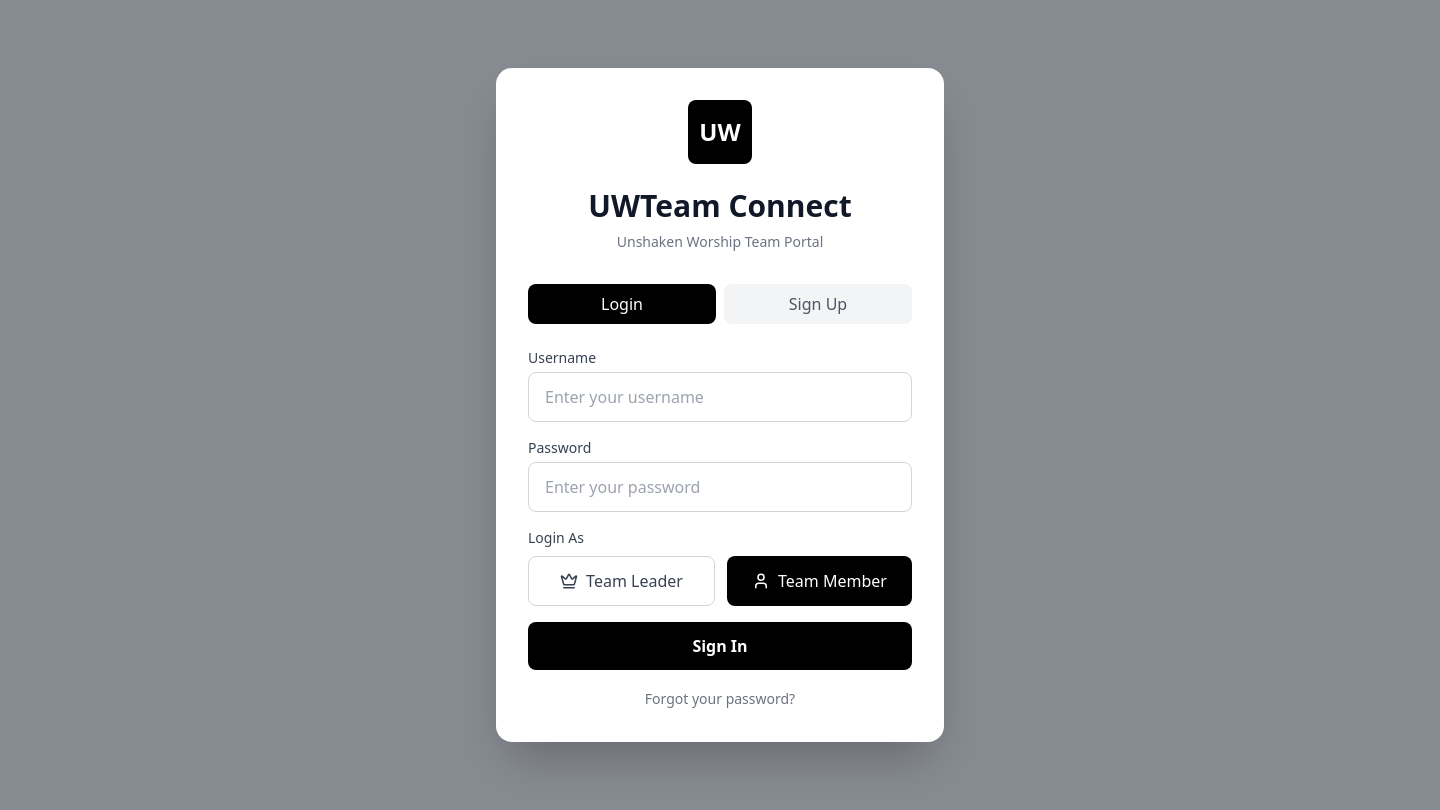
Test: Login component – client-side validation › shows error when username is too short
In the field with placeholder "Enter your username": (720, 397) x1=528 y1=372 x2=912 y2=422, type "ab"
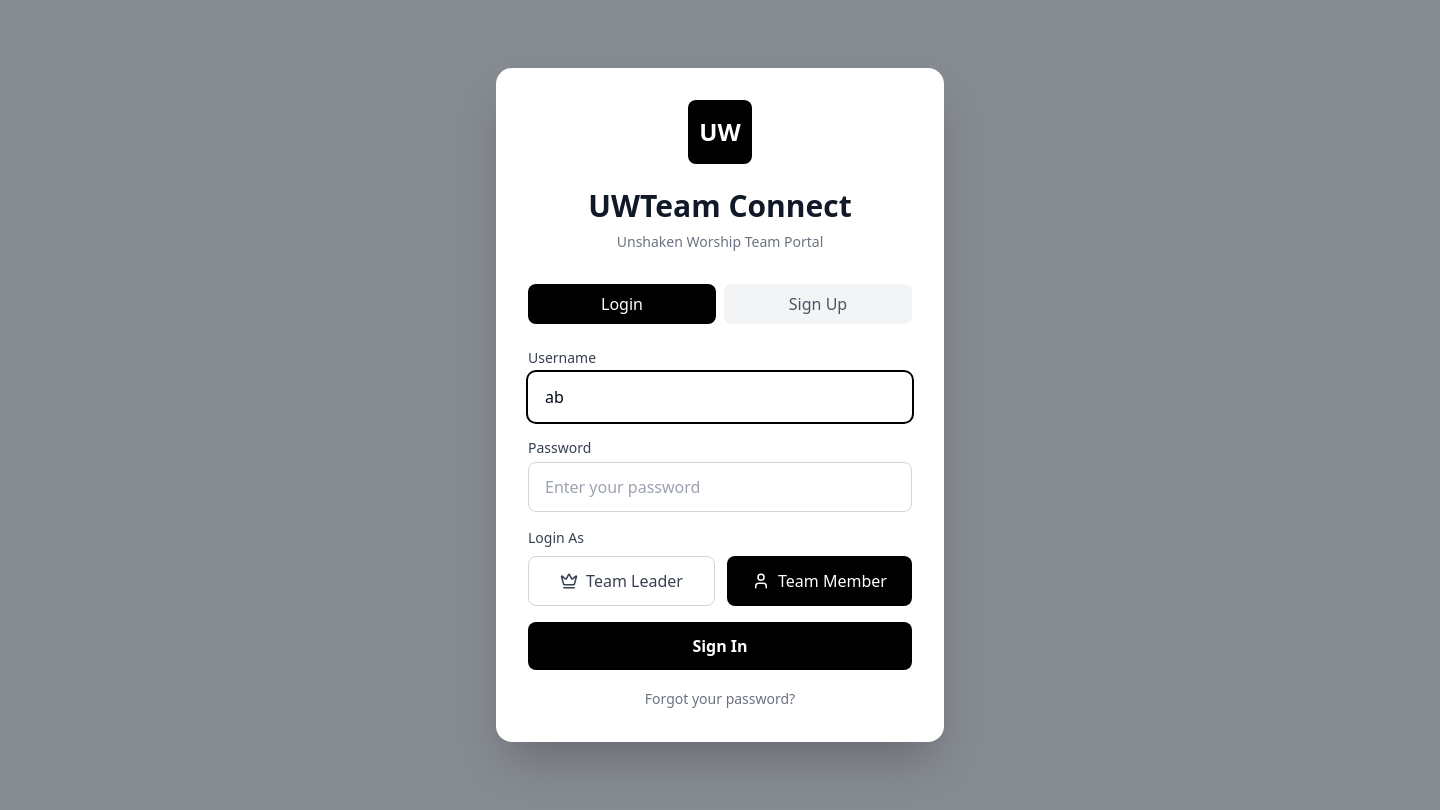
In the password field with placeholder "Enter your password": (720, 487) x1=528 y1=462 x2=912 y2=512, type "password123"
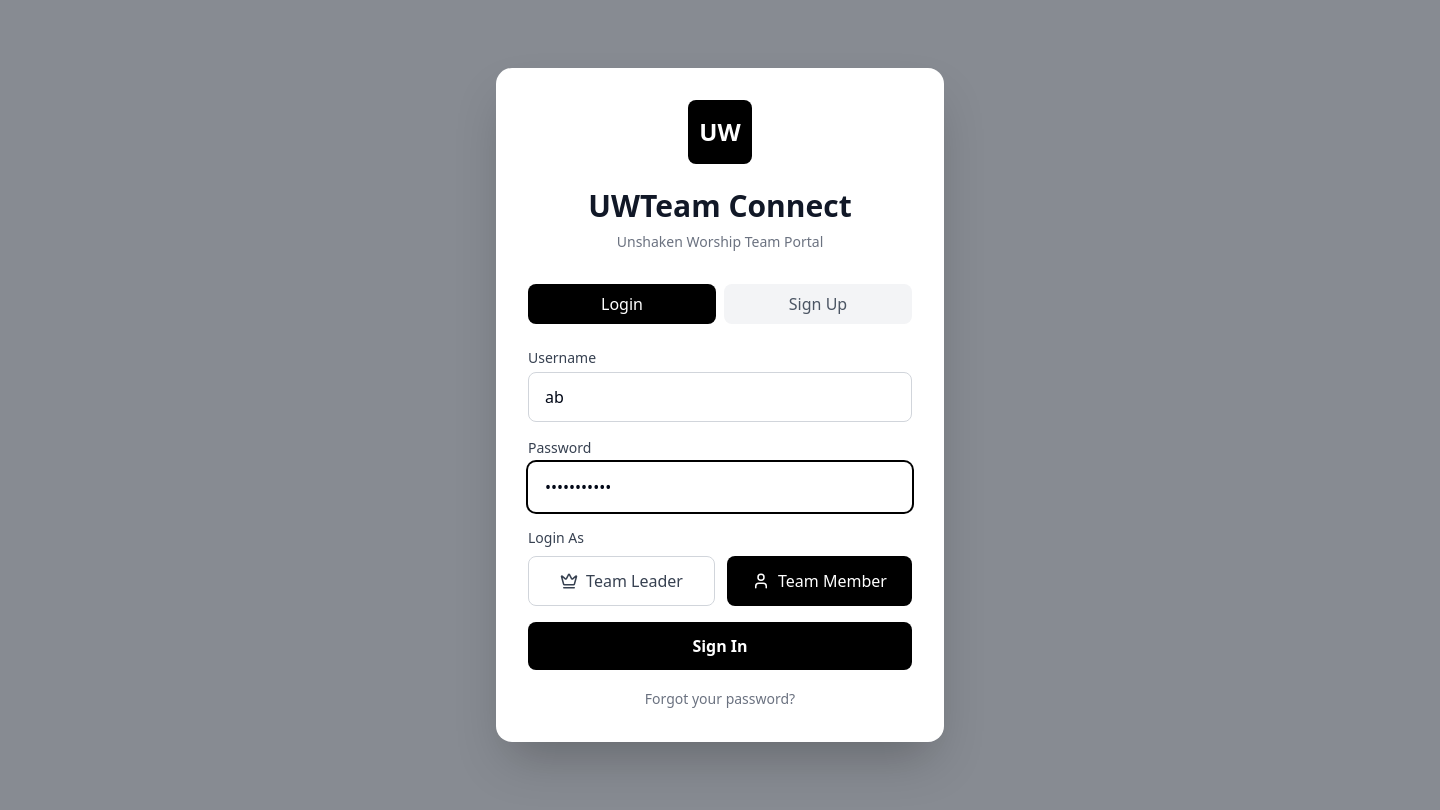
Click the button "Sign In": (720, 646) x1=528 y1=622 x2=912 y2=670
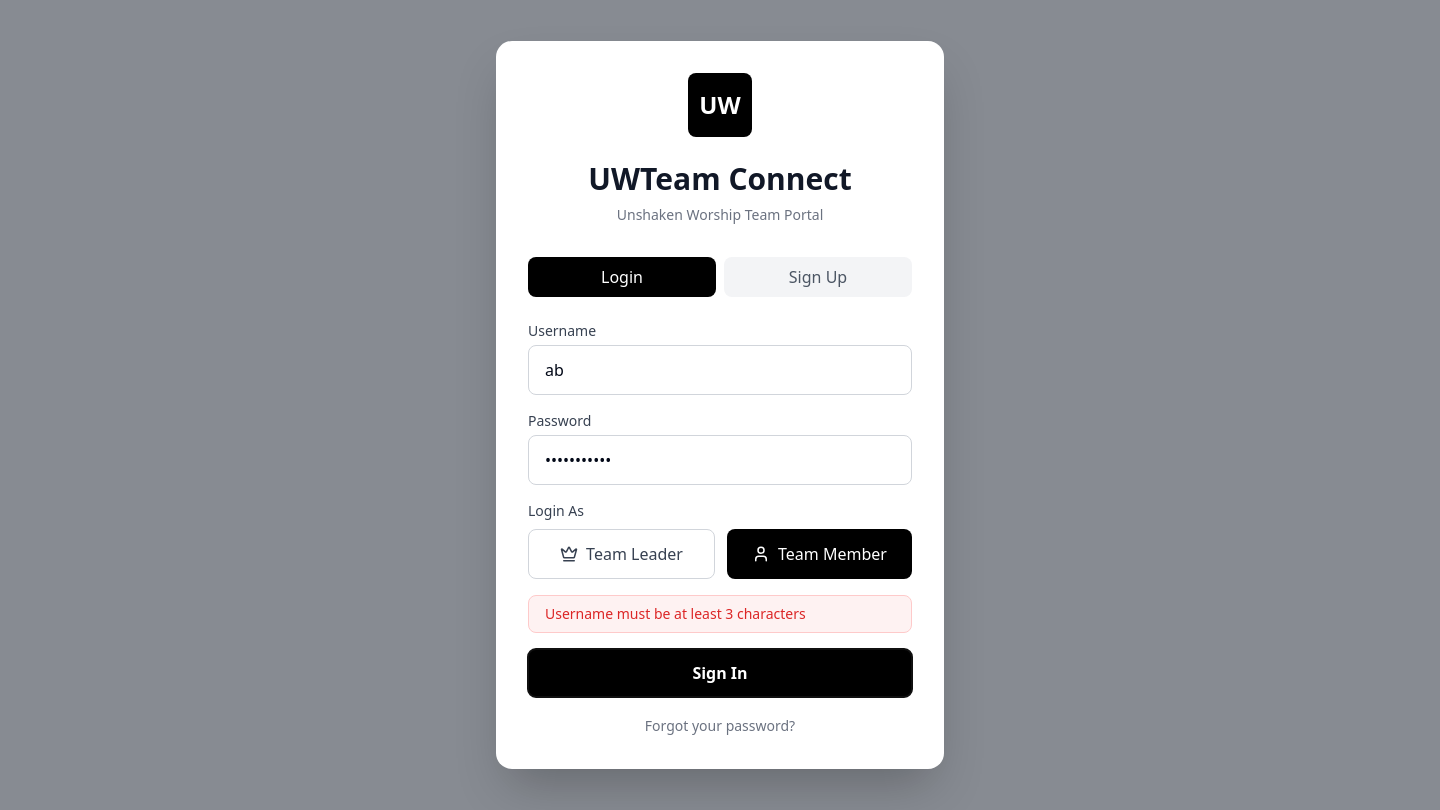
Expected: the text "Username must be at least 3 characters" is shown, x1=528 y1=595 x2=912 y2=633
